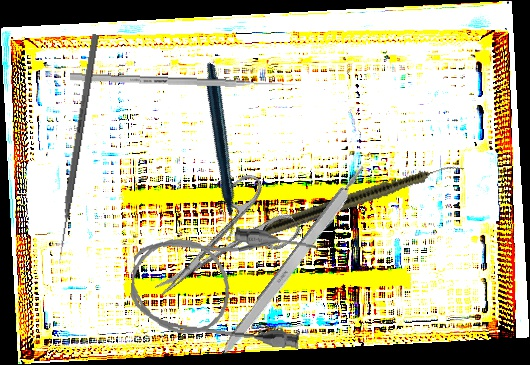Cannula: (126, 216, 320, 351)
Handpiece: (136, 61, 301, 242), (252, 155, 466, 243)
Iris Scissors: (132, 167, 304, 322)
Pusher: (54, 33, 100, 265), (69, 73, 296, 89)
Scalpel Handle: (217, 163, 372, 361)
